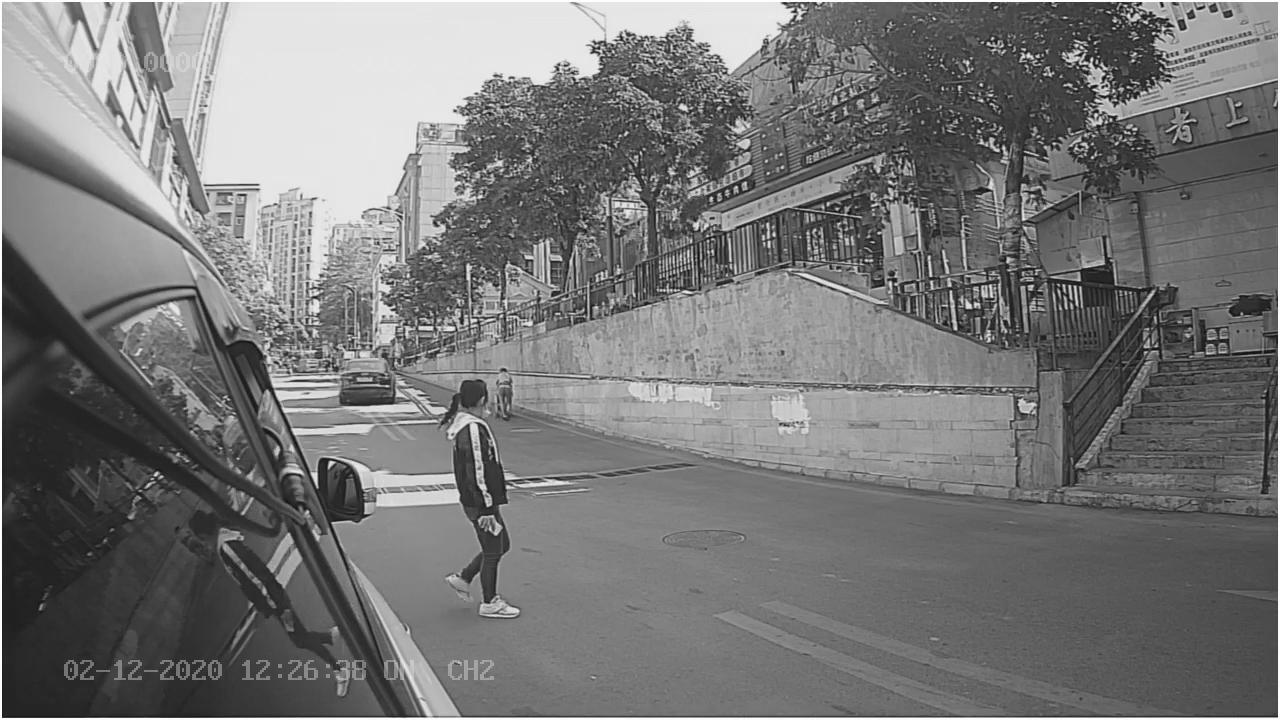person: (436, 378, 523, 618)
